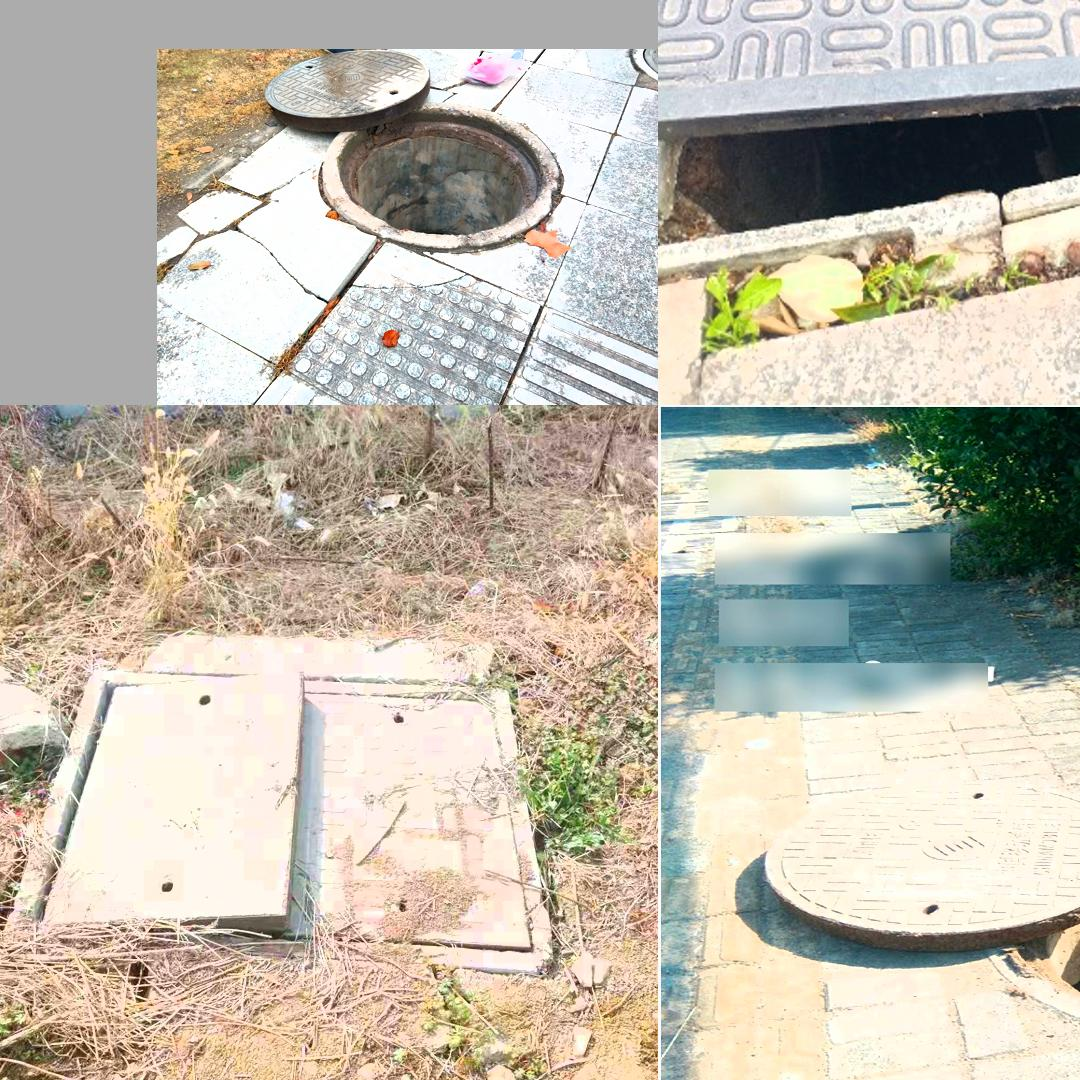uncovered: (0, 667, 552, 971), (659, 0, 1080, 278), (763, 780, 1080, 1038), (265, 49, 561, 248)
